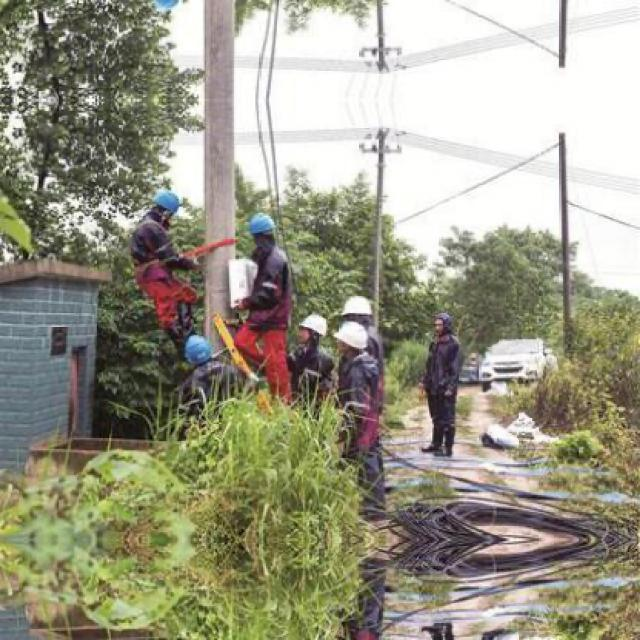helmet: (246, 210, 283, 253), (343, 293, 380, 332), (336, 318, 370, 354), (183, 333, 217, 369), (297, 313, 328, 352), (149, 190, 180, 227), (148, 0, 181, 12)
